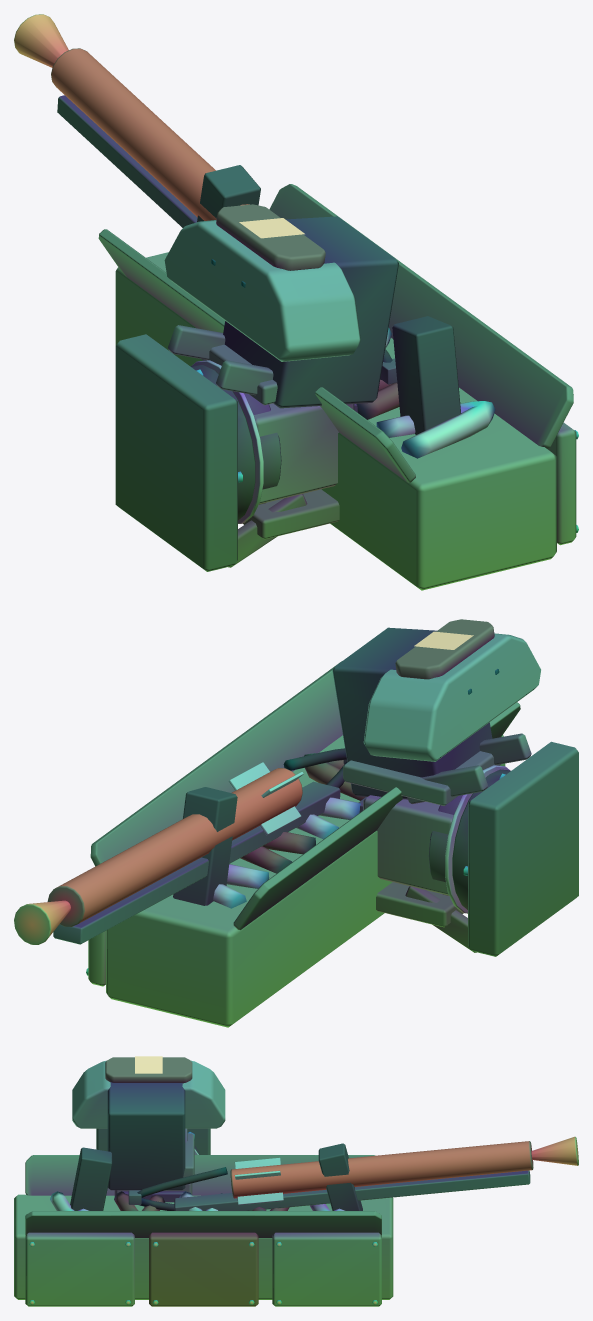
File: arm_miclic.glb
3 views of the same model, one above another, from view 1: azimuth 30°, elevation 25°; view 2: azimuth 150°, elevation 25°; view 3: azimuth 270°, elevation 25° (orthographic). The views are drawn at different scales.
Visible parts, largest first — view 1: Body__armor, Body__gunmetal, Body__armor_sub, Body__dark, Body__armor_oxide, Body__hazard, Body__brass, Body__chrome, Body__decal; view 2: Body__armor, Body__gunmetal, Body__armor_sub, Body__armor_oxide, Body__dark, Body__chrome, Body__hazard, Body__brass, Body__rubber, Body__decal; view 3: Body__armor, Body__armor_oxide, Body__armor_sub, Body__dark, Body__gunmetal, Body__chrome, Body__rubber, Body__brass, Body__hazard, Body__decal.
Part boxes in pixels (x1=…): Body__armor: x1=115, y1=220, x2=576, y2=590; Body__gunmetal: x1=57, y1=95, x2=397, y2=571; Body__armor_sub: x1=98, y1=184, x2=573, y2=567; Body__dark: x1=190, y1=165, x2=461, y2=520; Body__armor_oxide: x1=51, y1=48, x2=399, y2=419; Body__hazard: x1=376, y1=327, x2=495, y2=458; Body__brass: x1=14, y1=14, x2=68, y2=67; Body__chrome: x1=192, y1=360, x2=578, y2=532; Body__decal: x1=239, y1=218, x2=304, y2=238; Body__armor: x1=88, y1=633, x2=540, y2=1027; Body__gunmetal: x1=53, y1=741, x2=578, y2=956; Body__armor_sub: x1=90, y1=661, x2=531, y2=952; Body__armor_oxide: x1=47, y1=619, x2=494, y2=926; Body__dark: x1=173, y1=627, x2=510, y2=909; Body__chrome: x1=86, y1=762, x2=509, y2=975; Body__hazard: x1=213, y1=797, x2=360, y2=908; Body__brass: x1=14, y1=900, x2=70, y2=944; Body__rubber: x1=283, y1=748, x2=347, y2=787; Body__decal: x1=414, y1=631, x2=473, y2=649; Body__armor: x1=14, y1=1060, x2=393, y2=1306; Body__armor_oxide: x1=105, y1=1057, x2=533, y2=1306; Body__armor_sub: x1=25, y1=1128, x2=381, y2=1237; Body__dark: x1=70, y1=1082, x2=362, y2=1210; Body__gunmetal: x1=96, y1=1128, x2=530, y2=1210; Body__chrome: x1=29, y1=1132, x2=377, y2=1304; Body__rubber: x1=137, y1=1167, x2=227, y2=1210; Body__brass: x1=531, y1=1136, x2=578, y2=1165; Body__hazard: x1=50, y1=1191, x2=344, y2=1210; Body__decal: x1=135, y1=1056, x2=162, y2=1073.
Size of the model in its own units: 0.9985 by 0.9269 by 2.47.
